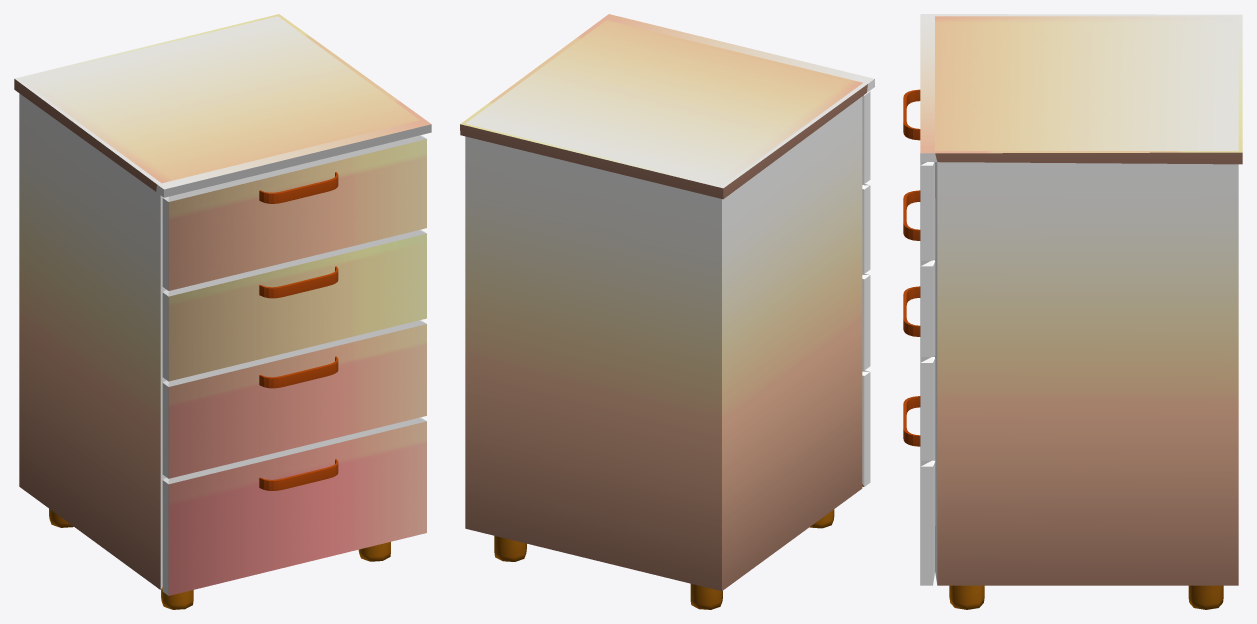
File: Cajon2.fbx
3 views of the same model, side by side, from view 1: azimuth 30°, elevation 25°; view 2: azimuth 150°, elevation 25°; view 3: azimuth 270°, elevation 25° (orthographic). The views are drawn at different scales.
Visible parts, largest first — view 1: Cajon2.001; view 2: Cajon2.001; view 3: Cajon2.001.
Boxes of the visible parts, x1,y1,x2,y2 form: Cajon2.001: [14, 14, 431, 609]; Cajon2.001: [460, 14, 874, 609]; Cajon2.001: [903, 14, 1242, 609].
Size of the model in its own units: 4.14 by 6.5 by 4.26.
1 material, 1 textured.
